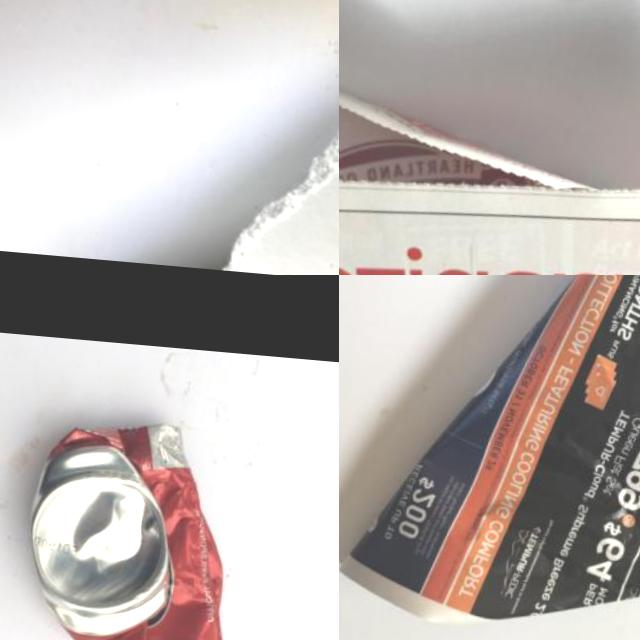lata: (15, 413, 245, 640)
papel: (339, 275, 640, 640), (0, 0, 339, 275), (339, 42, 640, 275)
